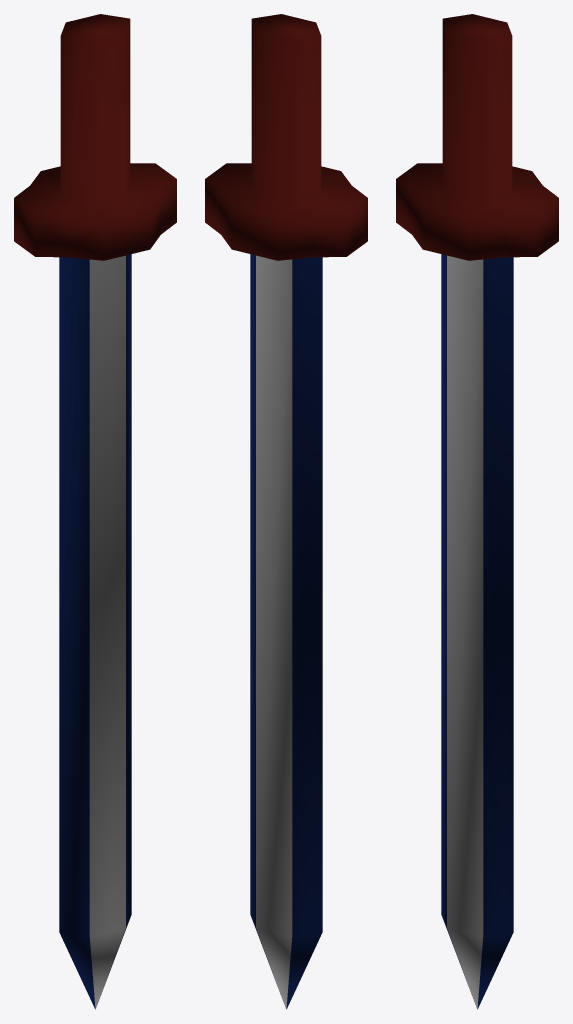
Rendered from sword.glb.
The picture shows the model from 3 angles, left to right: view 1: azimuth 30°, elevation 25°; view 2: azimuth 150°, elevation 25°; view 3: azimuth 330°, elevation 25°; orthographic projection.
Parts seen in each view (by area): view 1: sword; view 2: sword; view 3: sword.
Boxes of the visible parts, x1=… form: sword: x1=14, y1=14, x2=176, y2=1009; sword: x1=205, y1=14, x2=367, y2=1009; sword: x1=396, y1=14, x2=558, y2=1009.
Size of the model in its own units: 0.1041 by 0.6907 by 0.0805.
